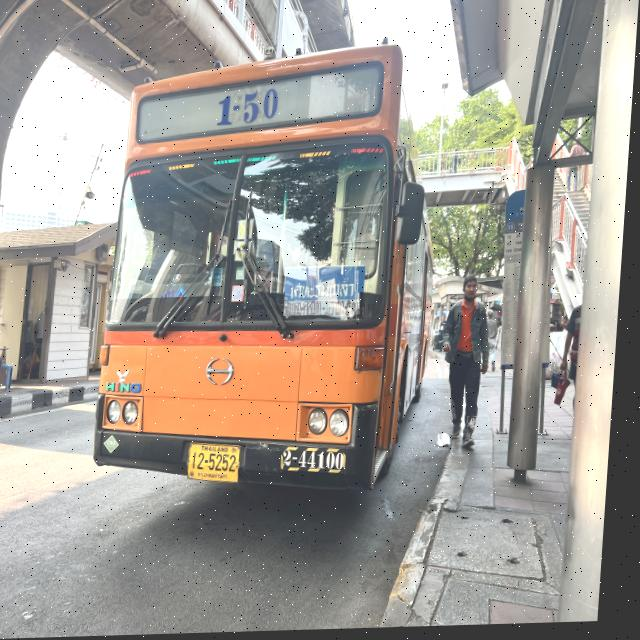BMTA-bus: (99, 46, 435, 497)
Bus Line Number: (217, 81, 284, 129)
Bus Side Number: (286, 447, 355, 477)
Destination Sign: (286, 269, 367, 322)
